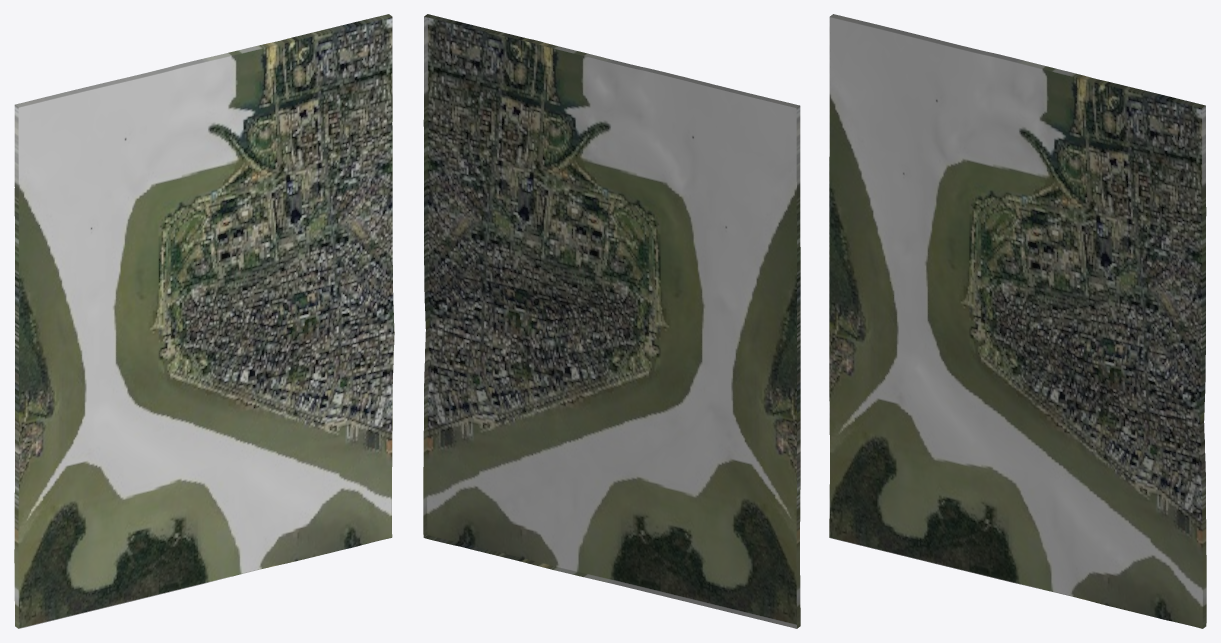
File: saida.obj
The picture shows the model from 3 angles, left to right: view 1: azimuth 30°, elevation 25°; view 2: azimuth 150°, elevation 25°; view 3: azimuth 330°, elevation 25°; orthographic projection.
Parts seen in each view (by area): view 1: saida.osg_PagedLOD_TerrainTile_MatrixTransform__Geometry_0; view 2: saida.osg_PagedLOD_TerrainTile_MatrixTransform__Geometry_0; view 3: saida.osg_PagedLOD_TerrainTile_MatrixTransform__Geometry_0.
Boxes of the visible parts, x1=… form: saida.osg_PagedLOD_TerrainTile_MatrixTransform__Geometry_0: x1=14, y1=14, x2=394, y2=628; saida.osg_PagedLOD_TerrainTile_MatrixTransform__Geometry_0: x1=423, y1=14, x2=800, y2=628; saida.osg_PagedLOD_TerrainTile_MatrixTransform__Geometry_0: x1=829, y1=14, x2=1206, y2=628.
Size of the model in its own units: 2820 by 3760 by 89.56.
Materials: 1 (1 with a texture image).
